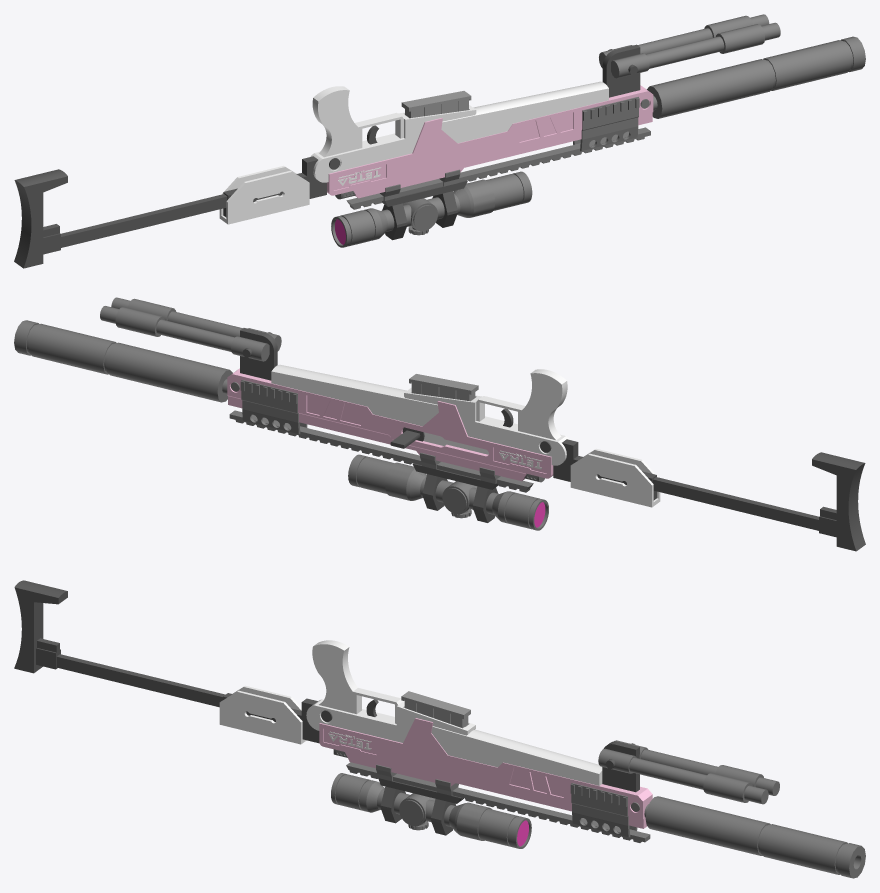
File: Wonderland.fbx
3 views of the same model, one above another, from view 1: azimuth 30°, elevation 25°; view 2: azimuth 150°, elevation 25°; view 3: azimuth 330°, elevation 25° (orthographic).
Parts seen in each view (by area): view 1: Material2.002, Material2.001, Material2.003, Material2.007, Material2.005; view 2: Material2.002, Material2.001, Material2.003, Material2.007, Material2.005; view 3: Material2.002, Material2.001, Material2.007, Material2.003, Material2.005.
Boxes of the visible parts, x1,y1,x2,y2 form: Material2.002: [331, 14, 865, 247]; Material2.001: [219, 81, 608, 224]; Material2.003: [14, 44, 640, 268]; Material2.007: [327, 85, 653, 198]; Material2.005: [401, 91, 471, 118]; Material2.002: [14, 297, 548, 530]; Material2.001: [271, 364, 660, 507]; Material2.003: [240, 328, 865, 551]; Material2.007: [227, 368, 553, 481]; Material2.005: [409, 374, 478, 401]; Material2.002: [331, 740, 865, 878]; Material2.001: [219, 640, 602, 785]; Material2.007: [319, 718, 652, 828]; Material2.003: [14, 580, 639, 835]; Material2.005: [401, 691, 470, 728].
Bounding box in the file's own units: 0.0339 × 0.00632 × 0.00218.
